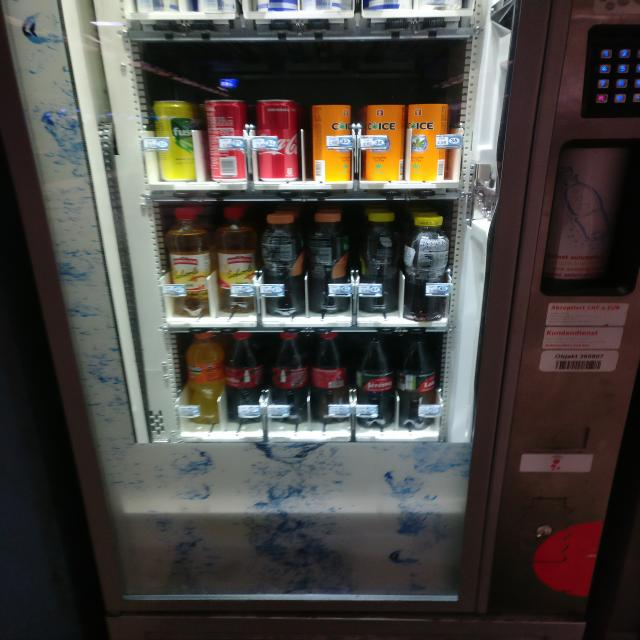c-swiss_dosenabisicetea__33__9120025930135: (308, 101, 354, 185), (405, 100, 451, 184), (364, 104, 406, 184)
coke__dose_33__54491472: (251, 96, 303, 182), (203, 96, 254, 182)
coke__flasche_50__54491472: (224, 329, 266, 423), (268, 329, 310, 423), (309, 331, 351, 423)
coke_zero_flasche_50__5449000131836: (394, 333, 442, 429), (353, 331, 395, 429)
fanta___50__40822938: (179, 332, 228, 424)
fuse_lemon__50__5449000235947: (404, 212, 450, 322), (354, 210, 401, 314)
fuse_lemon_dose_33__5449000235947: (153, 96, 202, 184)
fuse_peach__50__5449000236623: (256, 212, 304, 318), (306, 210, 354, 316)
ramseier_schorle__50__7610057012456: (165, 206, 217, 317), (214, 206, 262, 314)
